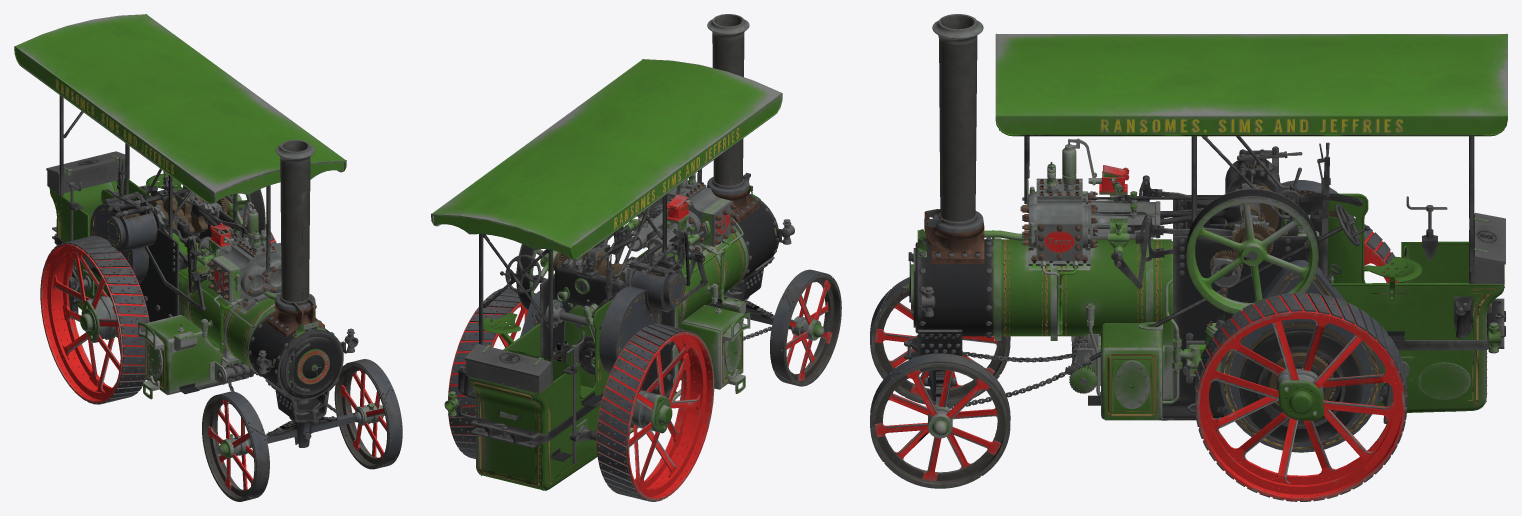
The model's file is Vape.fbx.
3 views of the same model, side by side, from view 1: azimuth 30°, elevation 25°; view 2: azimuth 150°, elevation 25°; view 3: azimuth 270°, elevation 25° (orthographic). The views are drawn at different scales.
Parts seen in each view (by area): view 1: Oldtractor-Opt1, Oldtractor-Opt1.001, Oldtractor-Opt1.002; view 2: Oldtractor-Opt1, Oldtractor-Opt1.001, Oldtractor-Opt1.002; view 3: Oldtractor-Opt1, Oldtractor-Opt1.001, Oldtractor-Opt1.002.
Part boxes in pixels (x1,y1,x2,y2): Oldtractor-Opt1: (14,14,358,447); Oldtractor-Opt1.001: (40,206,276,404); Oldtractor-Opt1.002: (202,359,402,501); Oldtractor-Opt1: (431,14,794,490); Oldtractor-Opt1.001: (448,287,714,501); Oldtractor-Opt1.002: (708,269,841,386); Oldtractor-Opt1: (900,14,1507,452); Oldtractor-Opt1.001: (1195,218,1407,501); Oldtractor-Opt1.002: (870,277,1010,488).
Bounding box in the file's own units: 1141 × 2086 × 2843.
